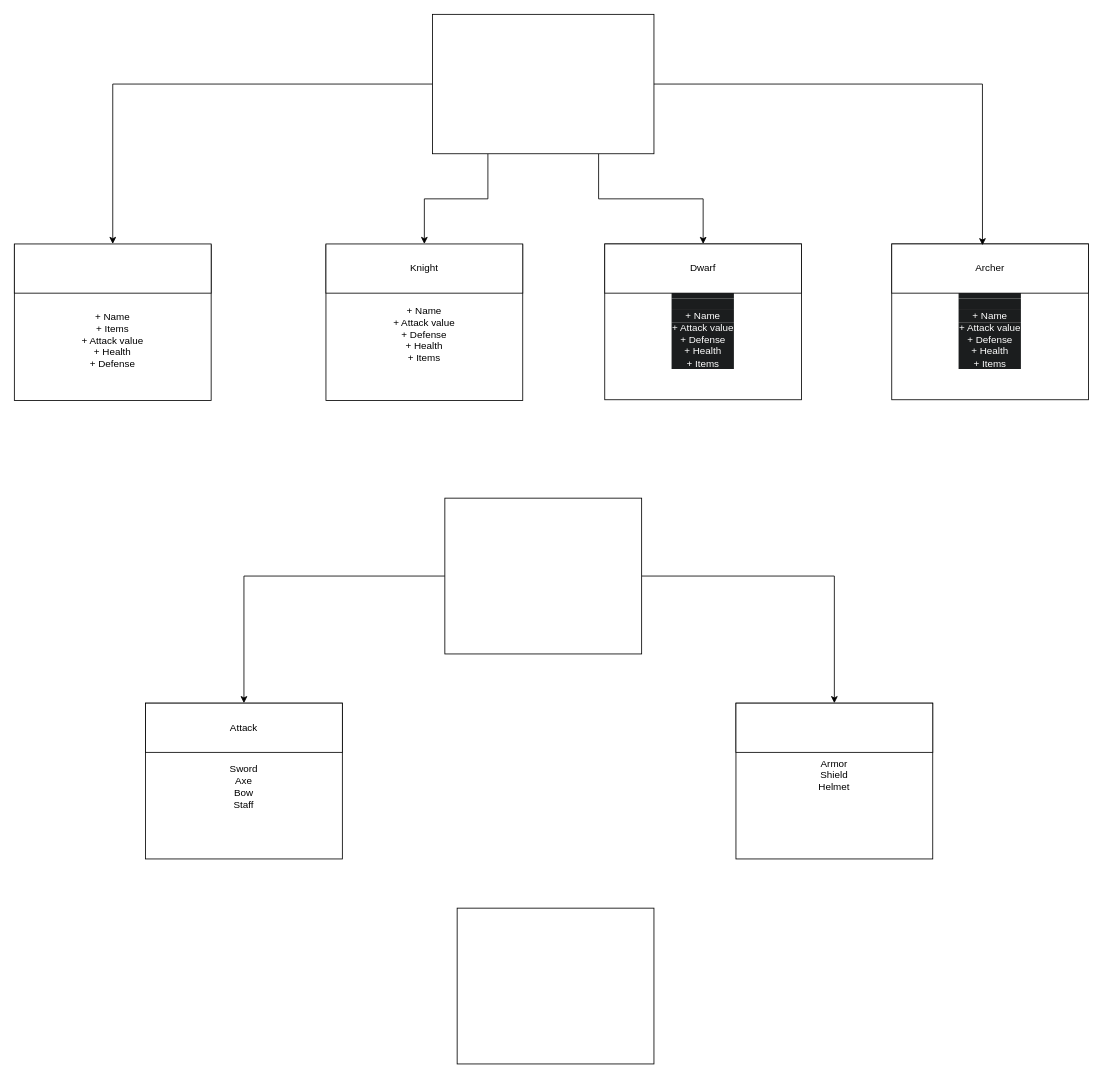
Some shapes in this 1103 by 1078 pixel diagram are drawn without their labels. The centre of each missing label's shape, as x and y in pixels:
"Character (abstract)" belongs at pixel 543 84.
"Deffense" belongs at pixel 834 727.
"Items (abstract)" belongs at pixel 543 575.
"Spell book Spells: List<Spells> Add.Spell() Cast.Spell()" belongs at pixel 555 985.
"Wizzard" belongs at pixel 112 268.
